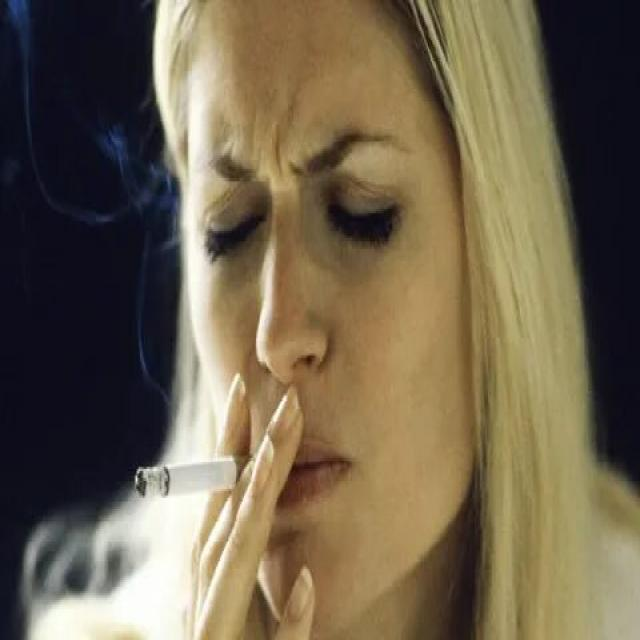cigarette: (132, 451, 261, 500)
